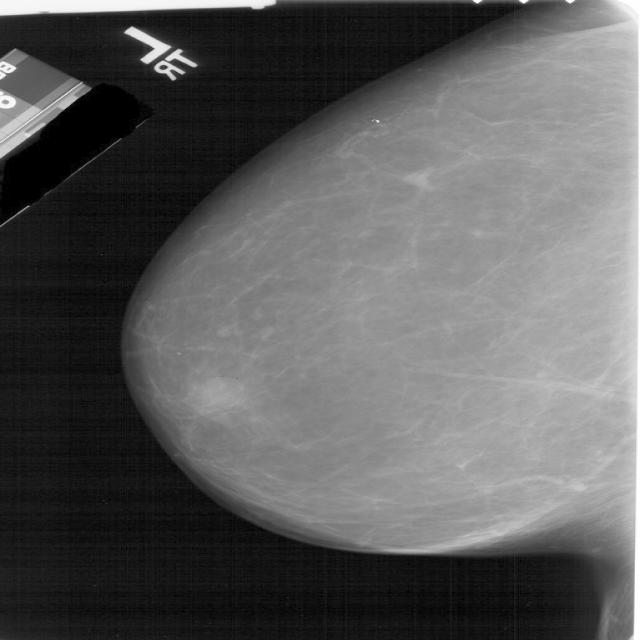tumour: (400, 165, 440, 191)
